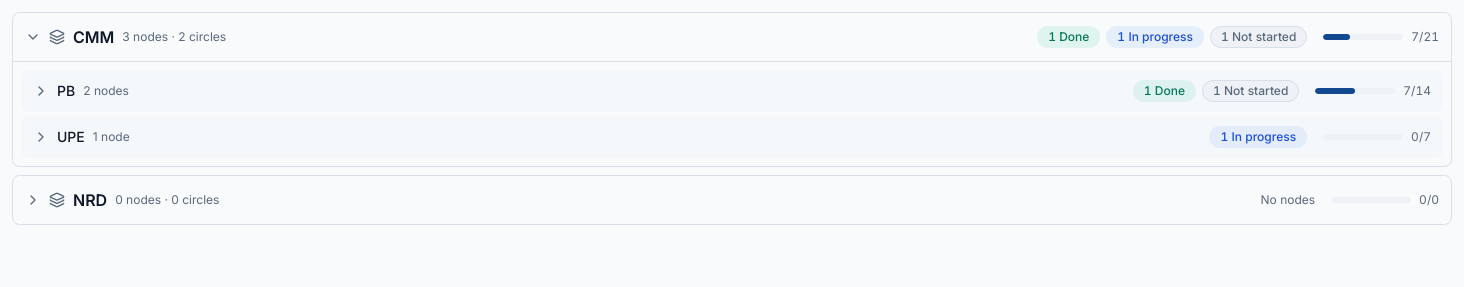
Test: NodeExplorer › says so when a product has no nodes
Click the text "NRD": [90, 200] box [73,188,107,212]
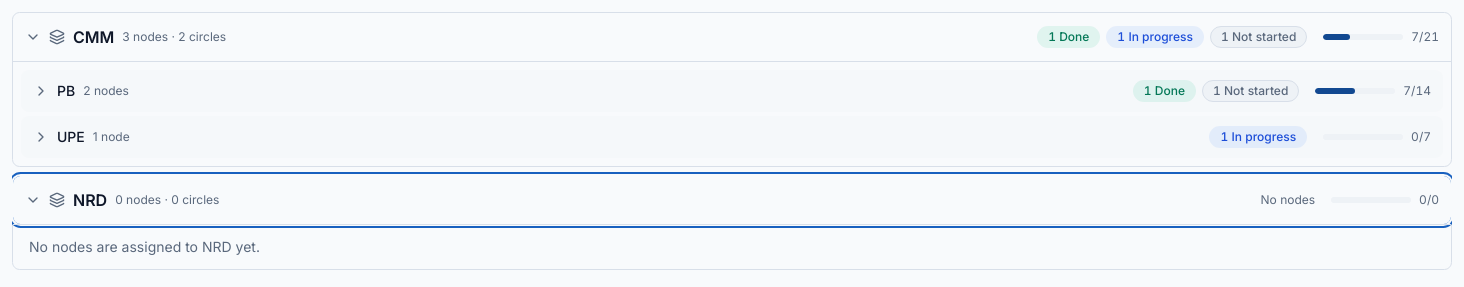
expect the text "No nodes are assigned to NRD yet." is shown: met, box [13,224,1451,269]
